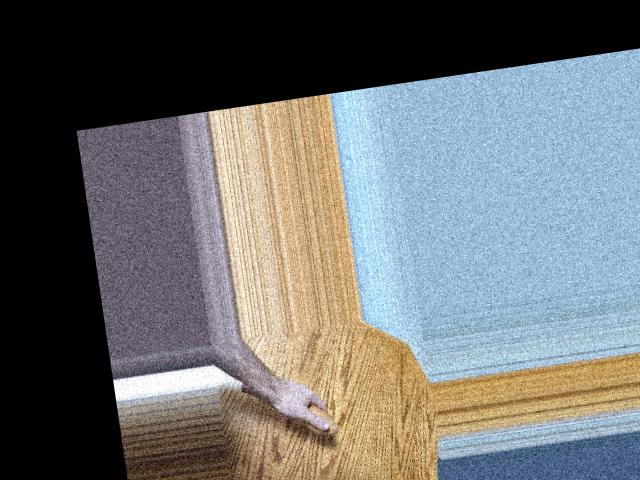sweet_potato: (237, 370, 339, 448)
